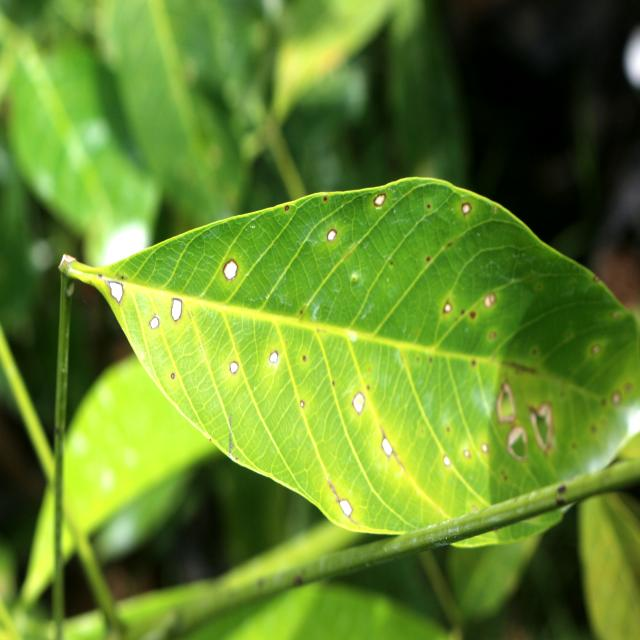Colletotrichum: (109, 281, 124, 303), (223, 259, 238, 281), (171, 298, 182, 322), (374, 193, 386, 206), (327, 228, 337, 241), (462, 202, 472, 215), (149, 317, 160, 328), (230, 361, 238, 374), (270, 351, 278, 363), (300, 401, 304, 407), (171, 374, 175, 378), (285, 206, 289, 210)
